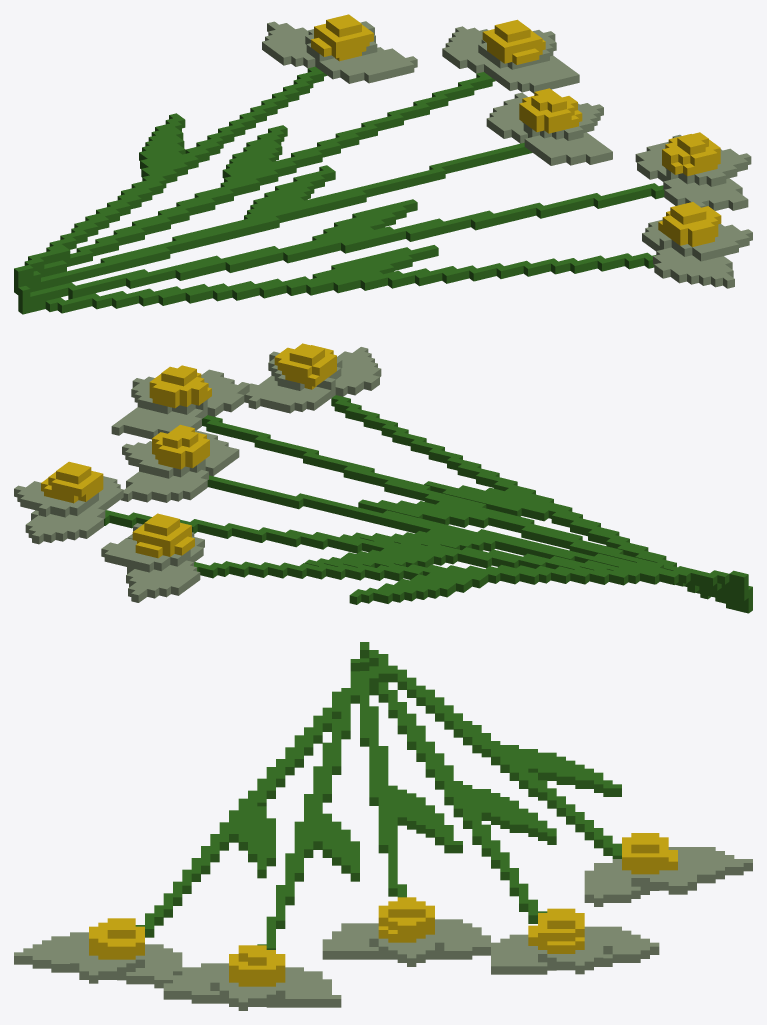
Rendered from spurge.glb.
3 renders of one model, top to bottom at view 1: azimuth 30°, elevation 25°; view 2: azimuth 150°, elevation 25°; view 3: azimuth 270°, elevation 25°, orthographic. The views are drawn at different scales.
Parts seen in each view (by area): view 1: spurge:compound; view 2: spurge:compound; view 3: spurge:compound.
Boxes of the visible parts, <box> form: spurge:compound: <box>14,14,752,314</box>; spurge:compound: <box>14,343,752,613</box>; spurge:compound: <box>14,642,752,1010</box>.
Size of the model in its own units: 0.178 by 0.02 by 0.158.
